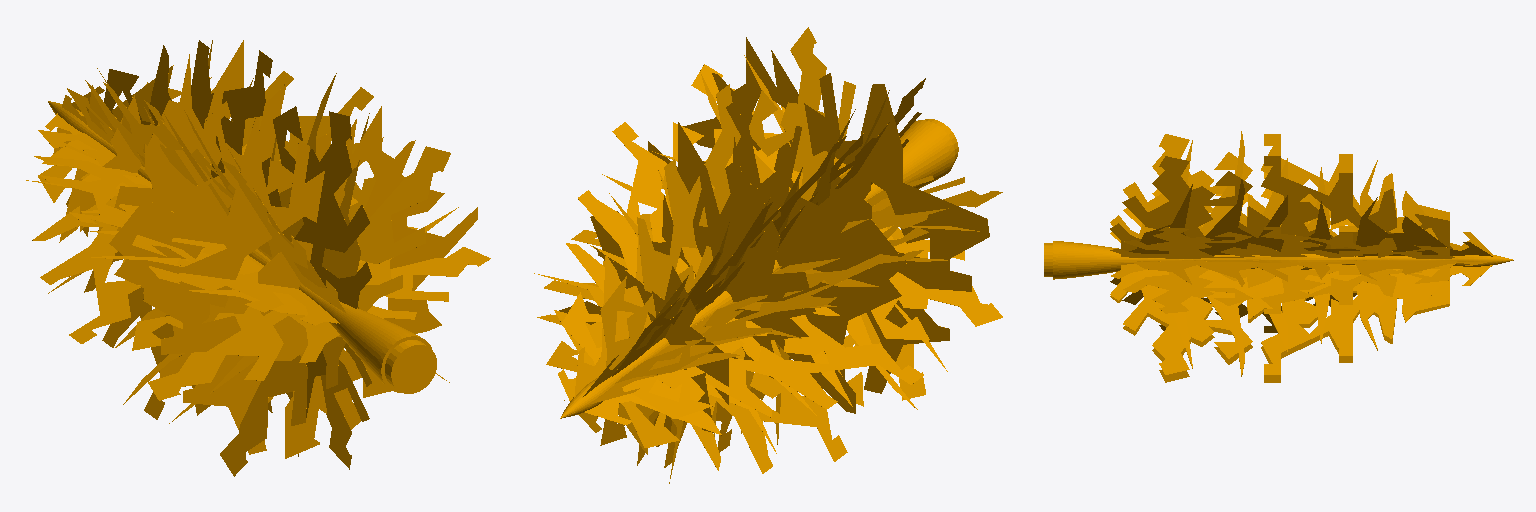
URDF robot description (arbre):
<?xml version="1.0" ?>
<robot name="arbre">

<material name="silver">
  <color rgba="0.700 0.700 0.700 1.000"/>
</material>

<link name="base_link">
  <inertial>
    <origin rpy="0 0 0" xyz="0.0 0.0 0.0"/>
    <mass value="0.0"/>
    <inertia ixx="0.0" ixy="0.0" ixz="0.0" iyy="0.0" iyz="0.0" izz="0.0"/>
  </inertial>
  <visual>
    <origin rpy="0 0 0" xyz="0 0 0"/>
    <geometry>
      <mesh filename="meshes/base_link.stl" scale="0.001 0.001 0.001"/>
    </geometry>
    <material name="silver"/>
    <material/>
  </visual>
  <collision>
    <origin rpy="0 0 0" xyz="0 0 0"/>
    <geometry>
      <mesh filename="meshes/base_link.stl" scale="0.001 0.001 0.001"/>
    </geometry>
  </collision>
</link>

</robot>

--- Facts derived from the render (not from the file) ---
3 views of the same robot in one strip: view 1: azimuth 30°, elevation 25°; view 2: azimuth 150°, elevation 25°; view 3: azimuth 270°, elevation 25° (orthographic).
Model arbre with 1 links and 0 joints (none), rooted at base_link, posed all joints at 0.
Links seen in each view (by area): view 1: base_link; view 2: base_link; view 3: base_link.
Boxes of the visible links, box(x1,y1,x2,y2) form: base_link: box(26, 40, 490, 476); base_link: box(534, 27, 1002, 483); base_link: box(1044, 131, 1513, 382).
Bounding box of the posed robot: 4.49 × 8.28 × 4.5 m (x, y, z).
Meshes: 1 distinct files referenced, 1 mesh visuals loaded (1 binary STL).